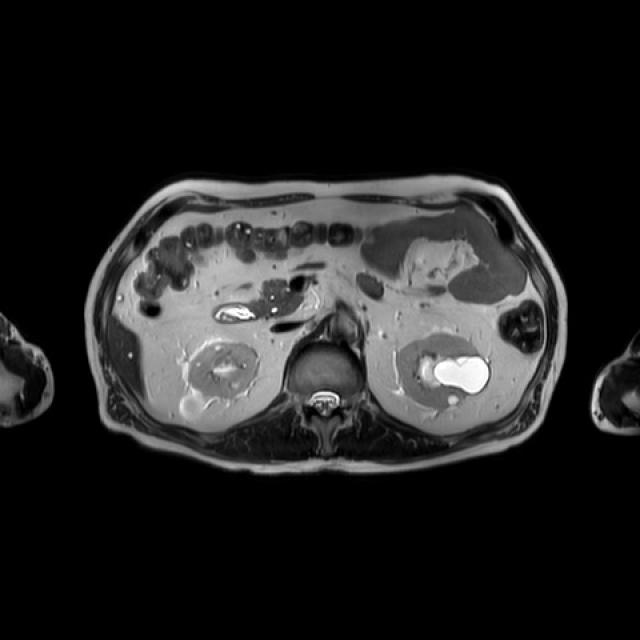sag: (178, 339, 259, 421)
sol: (397, 332, 492, 409)
